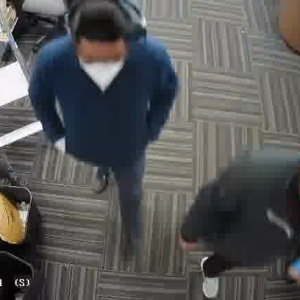person: (36, 1, 152, 239), (193, 151, 300, 285)
